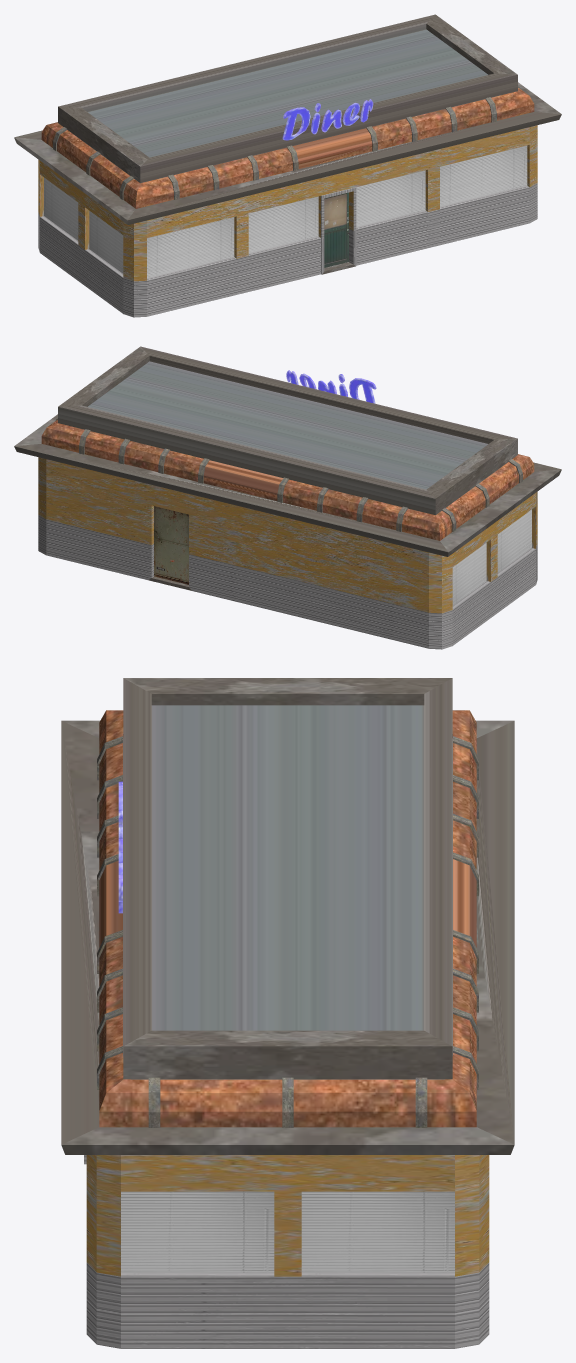
Rendered from diner.glb.
3 views of the same model, one above another, from view 1: azimuth 30°, elevation 25°; view 2: azimuth 150°, elevation 25°; view 3: azimuth 270°, elevation 25° (orthographic). The views are drawn at different scales.
Parts seen in each view (by area): view 1: diner-Building_dinerM1_0, diner-Window-doors_dinerM2_0, diner-Sign_dinerSign_0; view 2: diner-Building_dinerM1_0, diner-Window-doors_dinerM2_0, diner-Sign_dinerSign_0; view 3: diner-Building_dinerM1_0, diner-Window-doors_dinerM2_0.
Boxes of the visible parts, bbox=[...] form: diner-Building_dinerM1_0: bbox=[14, 14, 561, 317]; diner-Window-doors_dinerM2_0: bbox=[44, 145, 527, 278]; diner-Sign_dinerSign_0: bbox=[282, 99, 373, 140]; diner-Building_dinerM1_0: bbox=[14, 346, 561, 649]; diner-Window-doors_dinerM2_0: bbox=[154, 506, 531, 605]; diner-Sign_dinerSign_0: bbox=[286, 370, 376, 403]; diner-Building_dinerM1_0: bbox=[61, 678, 514, 1348]; diner-Window-doors_dinerM2_0: bbox=[121, 1191, 454, 1272].
Size of the model in its own units: 20 by 7.19 by 9.04.
3 materials, 3 textured.
